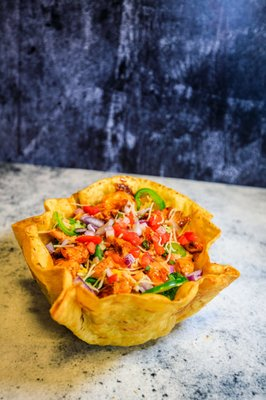sandwich: (11, 174, 242, 347)
